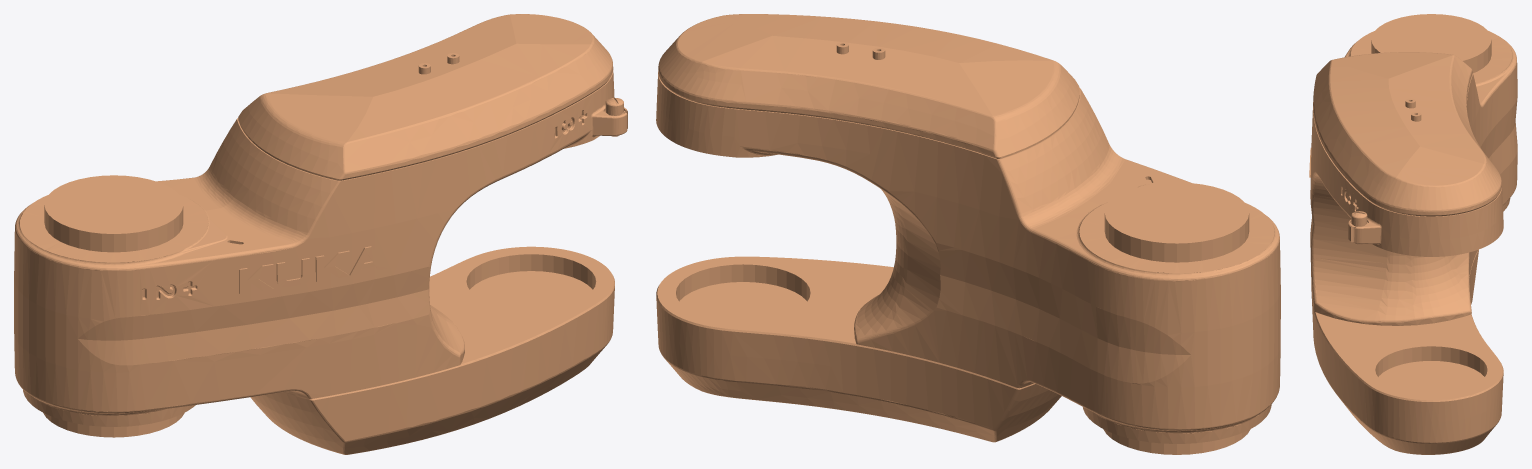
The picture shows the model from 3 angles, left to right: view 1: azimuth 30°, elevation 25°; view 2: azimuth 150°, elevation 25°; view 3: azimuth 270°, elevation 25°; orthographic projection. The views are drawn at different scales.
Visible parts, largest first — view 1: /Link_2/Link_2_001-mesh/0; view 2: /Link_2/Link_2_001-mesh/0; view 3: /Link_2/Link_2_001-mesh/0.
Part boxes in pixels (<box>): /Link_2/Link_2_001-mesh/0: <box>14,14,627,454</box>; /Link_2/Link_2_001-mesh/0: <box>656,14,1280,454</box>; /Link_2/Link_2_001-mesh/0: <box>1309,14,1517,454</box>.
Size of the model in its own units: 0.3592 by 0.199 by 0.1302.
